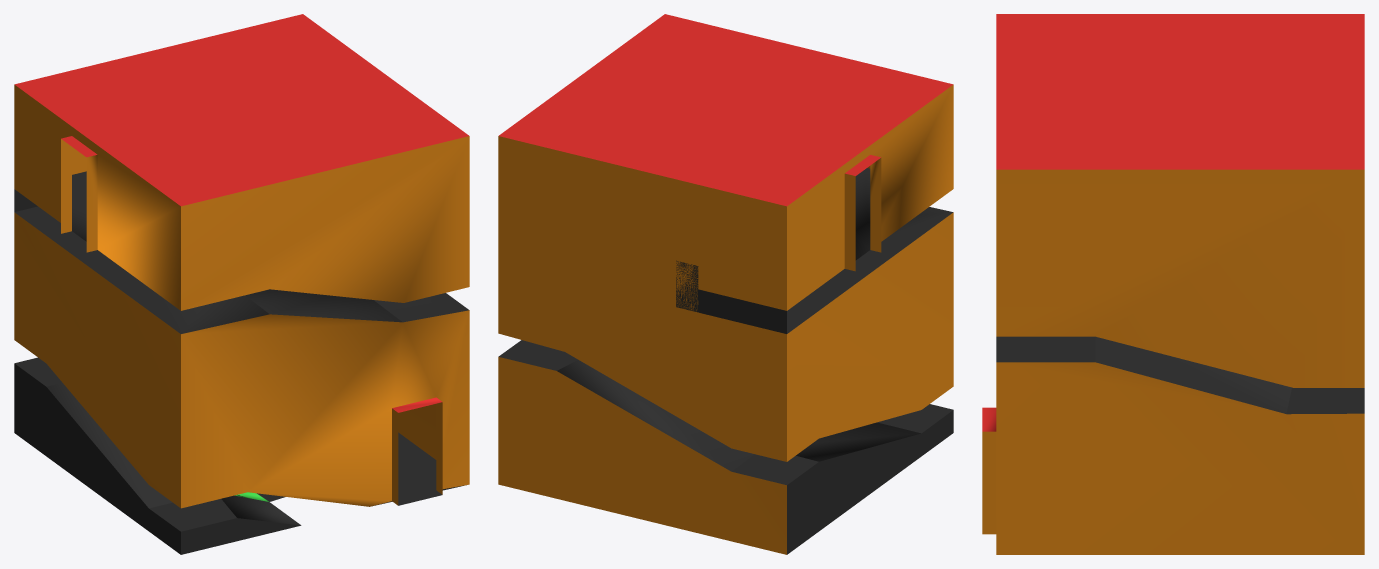
Rendered from StairsFloor1and2Mesh.gltf.
3 renders of one model, left to right at view 1: azimuth 30°, elevation 25°; view 2: azimuth 150°, elevation 25°; view 3: azimuth 270°, elevation 25°, orthographic. The views are drawn at different scales.
Parts seen in each view (by area): view 1: StairsFloor1and2Mesh2; view 2: StairsFloor1and2Mesh2; view 3: StairsFloor1and2Mesh2.
Boxes of the visible parts, left/top/right/bottom form: StairsFloor1and2Mesh2: left=14, top=14, right=469, bottom=554; StairsFloor1and2Mesh2: left=498, top=14, right=953, bottom=554; StairsFloor1and2Mesh2: left=982, top=14, right=1364, bottom=554.
Size of the model in its own units: 13.5 by 15 by 13.5.
